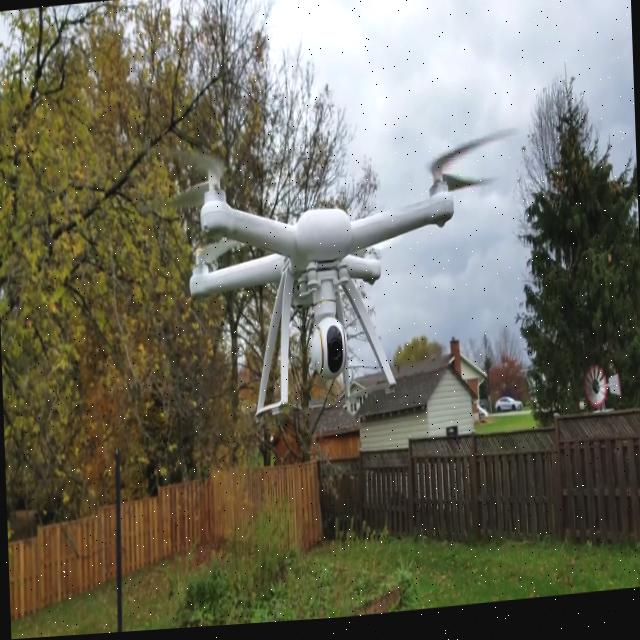drone: (140, 89, 548, 470)
